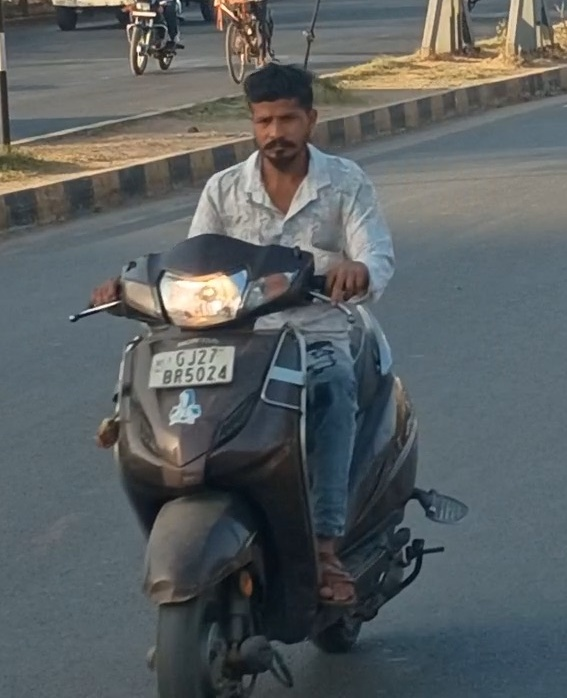BikeWithRider: (62, 56, 477, 697)
NoHelmet: (232, 60, 328, 169)
